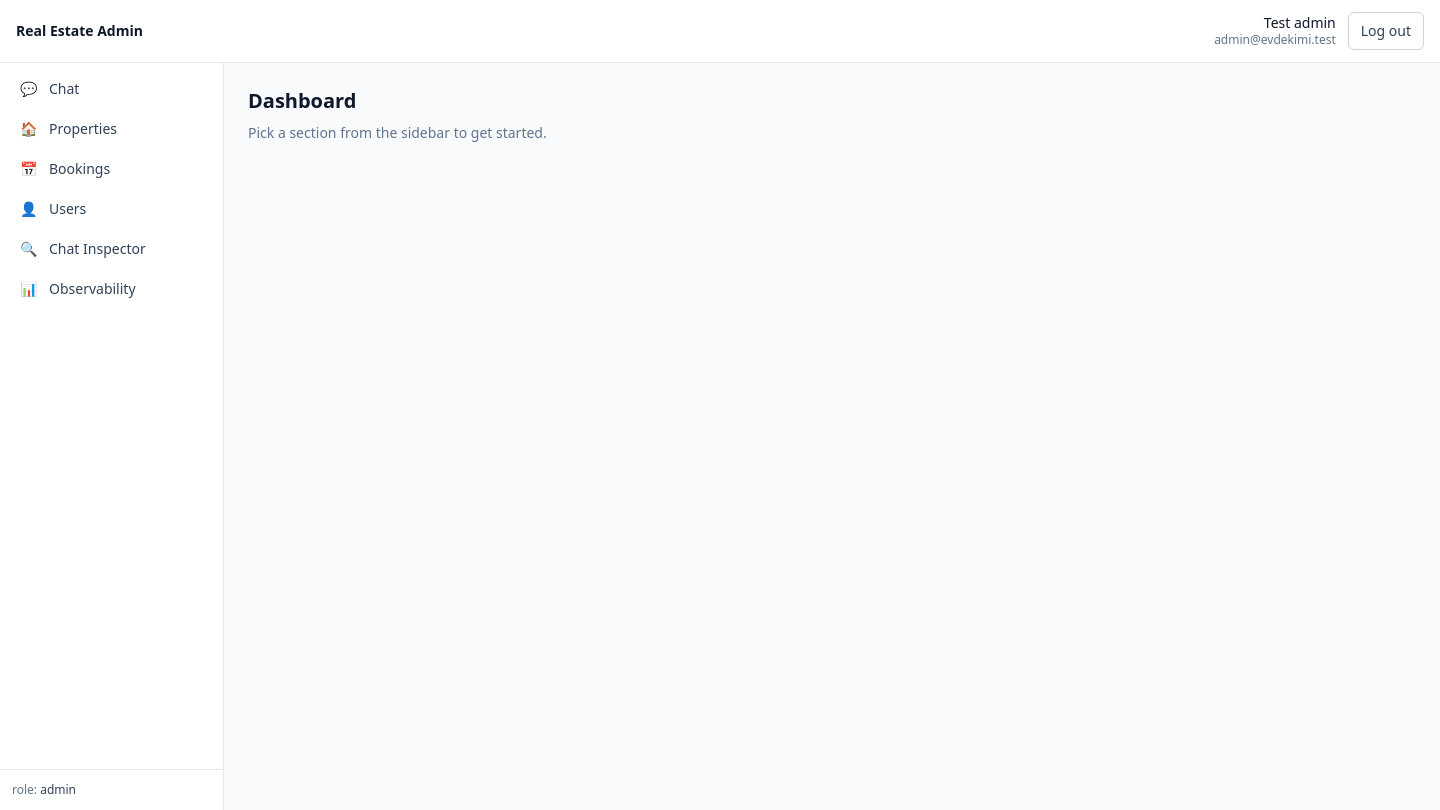
Test: logging out › revokes the session server-side, then clears everything this tab held
Click the button "Log out": (1386, 31) [1348,12,1424,50]
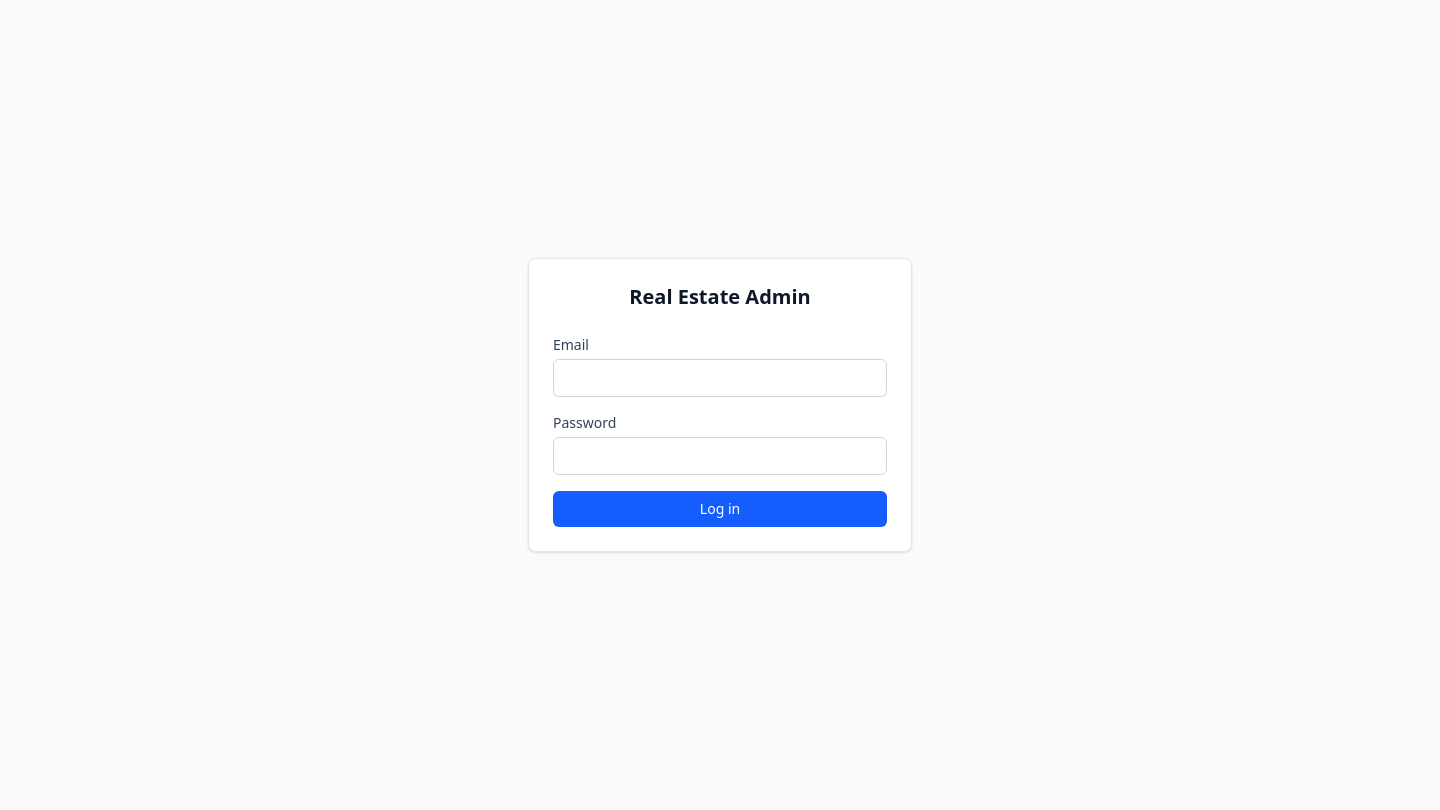
Expected: the button "Log in" is shown, [553,491,887,527]
